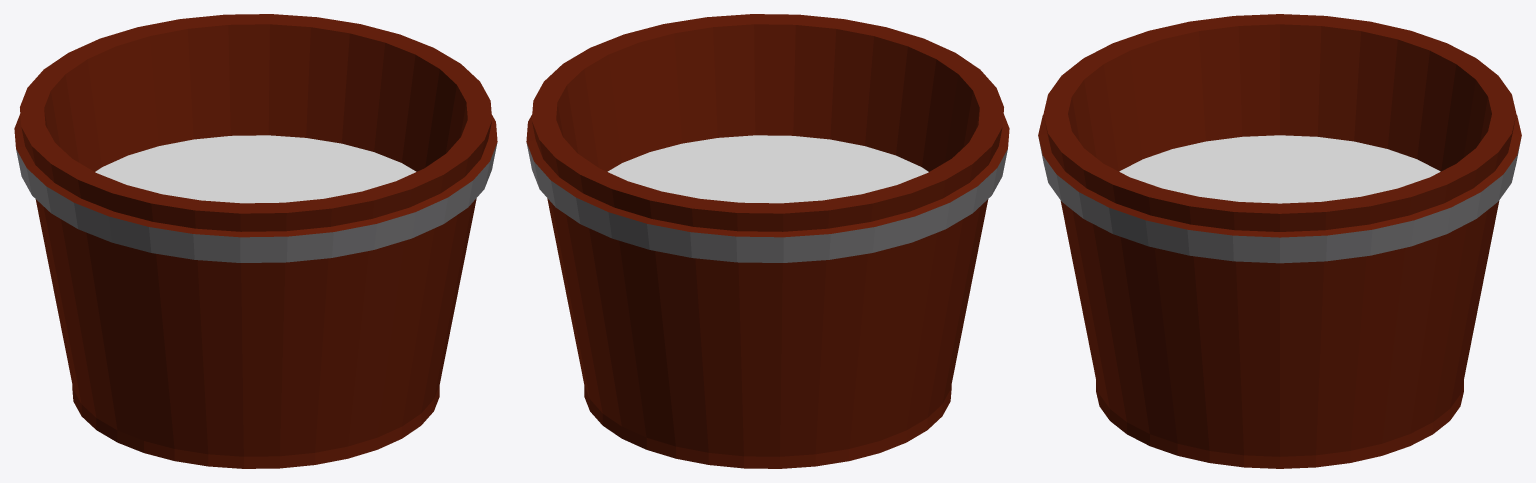
Rendered from cubo.fbx.
3 views of the same model, side by side, from view 1: azimuth 30°, elevation 25°; view 2: azimuth 150°, elevation 25°; view 3: azimuth 270°, elevation 25° (orthographic).
Parts seen in each view (by area): view 1: Circle, Circle.001; view 2: Circle, Circle.001; view 3: Circle, Circle.001.
Boxes of the visible parts, box(x1,y1,x2,y2) form: Circle: box(14, 14, 497, 468); Circle.001: box(95, 135, 416, 203); Circle: box(526, 14, 1009, 468); Circle.001: box(607, 135, 928, 203); Circle: box(1038, 14, 1521, 468); Circle.001: box(1119, 135, 1440, 203).
Bounding box in the file's own units: 263 × 166 × 263.
